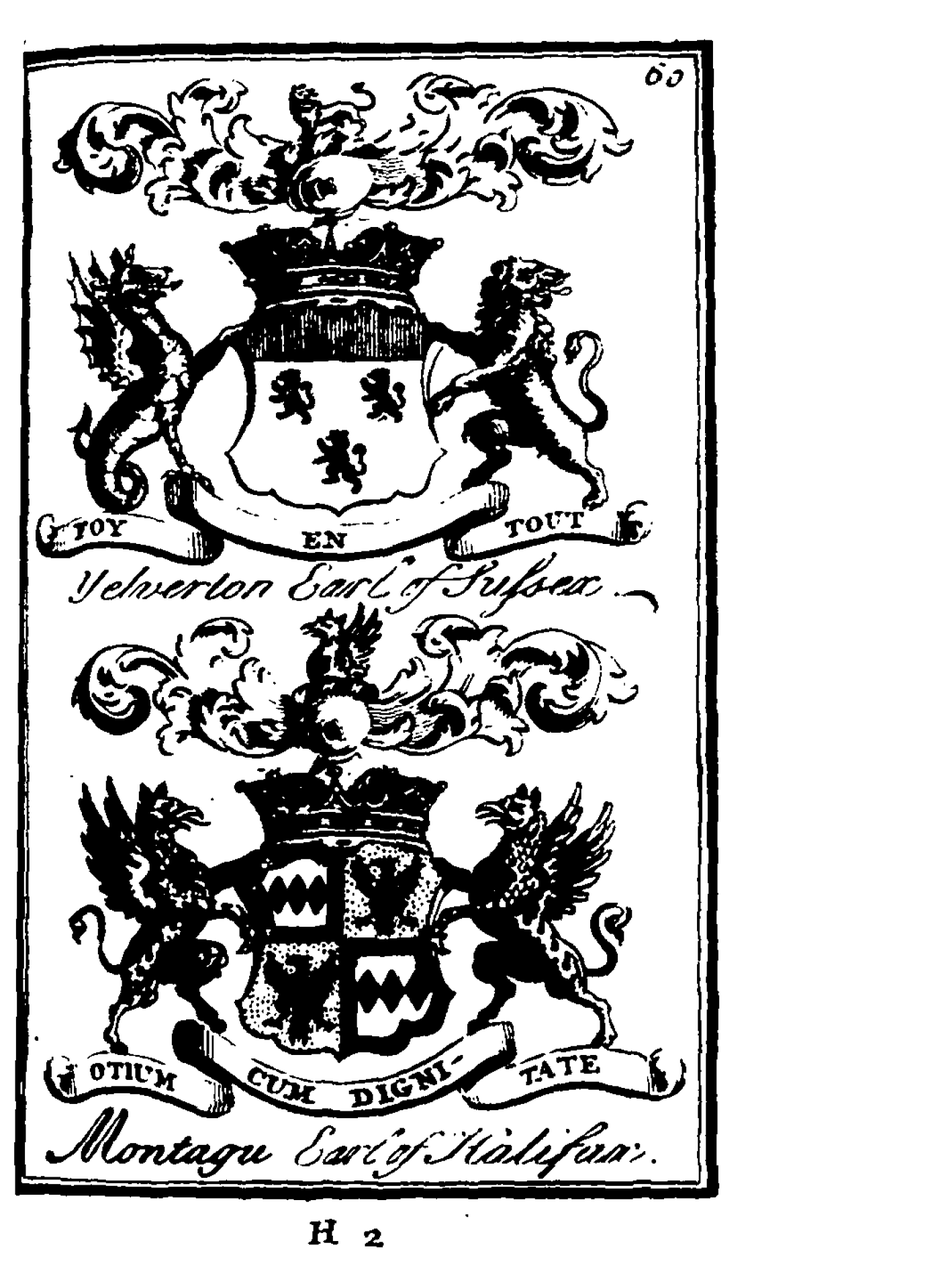coat_of_arms: (21, 616, 700, 1174), (24, 64, 677, 616)
